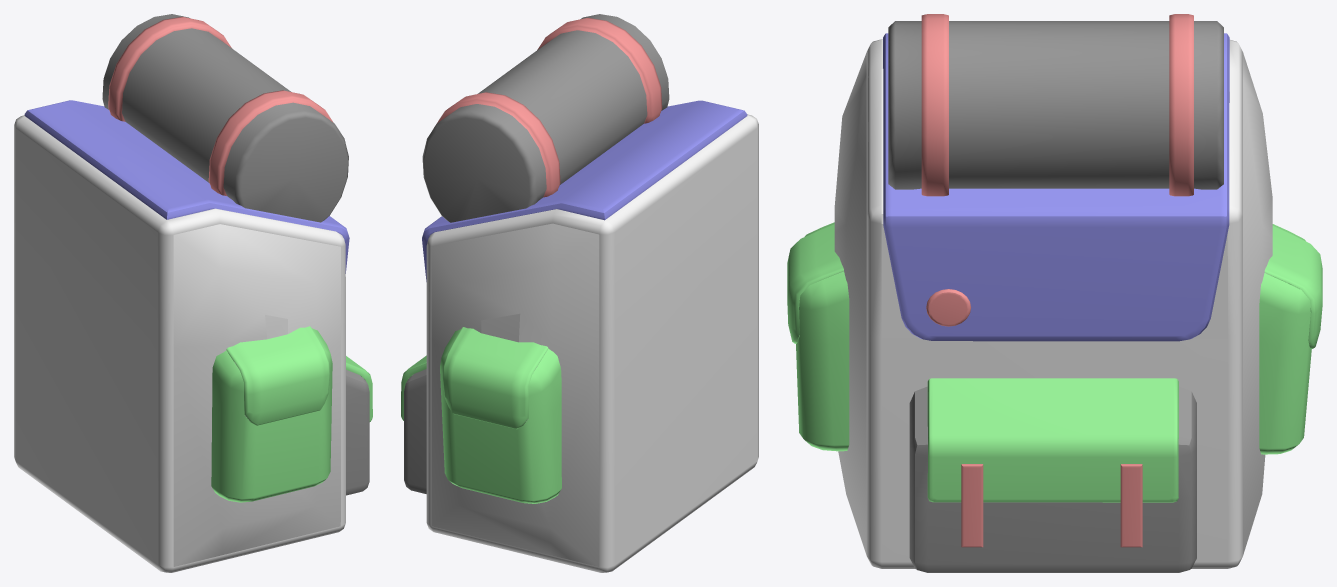
Rendered from BigBackpack1.fbx.
3 renders of one model, left to right at view 1: azimuth 30°, elevation 25°; view 2: azimuth 150°, elevation 25°; view 3: azimuth 270°, elevation 25°, orthographic. The views are drawn at different scales.
Visible parts, largest first — view 1: SM_Backpack_Big; view 2: SM_Backpack_Big; view 3: SM_Backpack_Big.
Boxes of the visible parts, box(x1,y1,x2,y2) form: SM_Backpack_Big: box(14, 14, 372, 572); SM_Backpack_Big: box(401, 14, 758, 572); SM_Backpack_Big: box(787, 14, 1322, 572).
Bounding box in the file's own units: 67.54 × 119 × 108.
